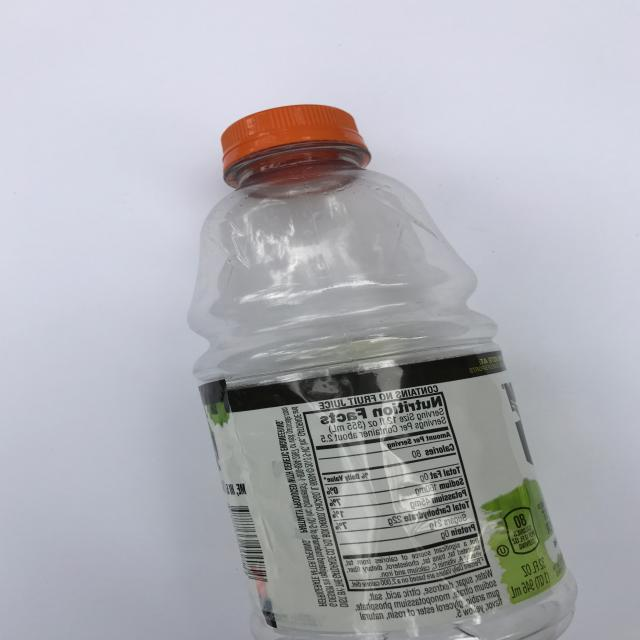plastic: (187, 103, 578, 640)
